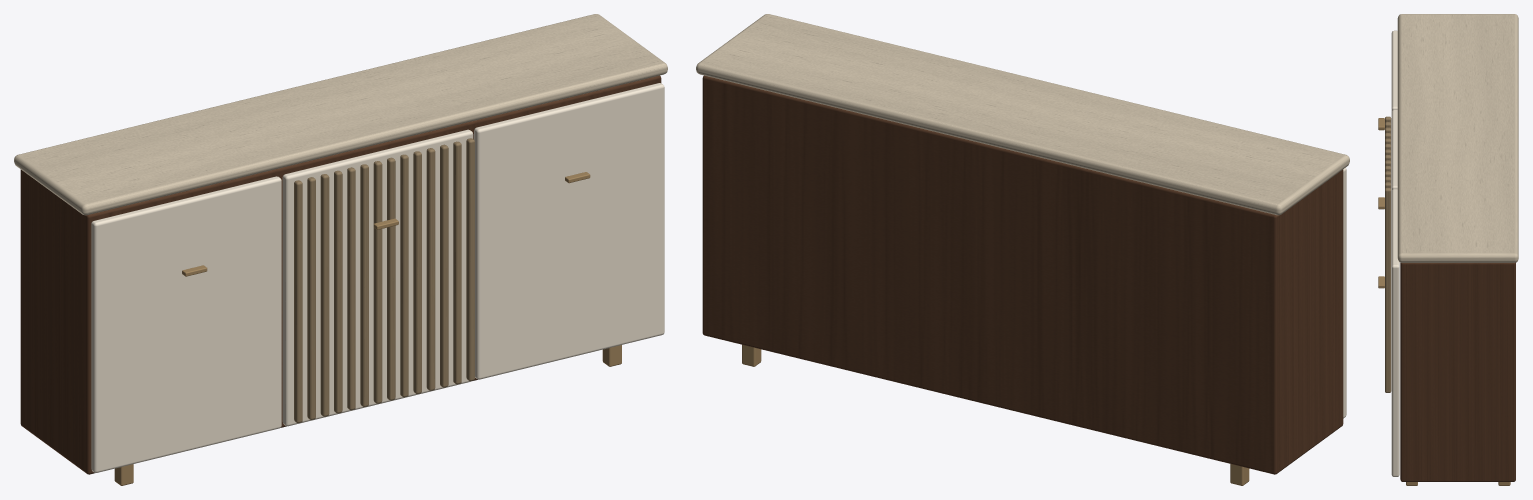
File: sideboard.glb
3 views of the same model, side by side, from view 1: azimuth 30°, elevation 25°; view 2: azimuth 150°, elevation 25°; view 3: azimuth 270°, elevation 25° (orthographic). The views are drawn at different scales.
Parts seen in each view (by area): view 1: 象牙白哑光烤漆 (×3), 米色洞石, 浅烟熏白橡木 (×14), 浅胡桃木; view 2: 浅胡桃木, 米色洞石, 象牙白哑光烤漆; view 3: 米色洞石, 浅胡桃木, 象牙白哑光烤漆 (×3), 浅烟熏白橡木.
Part boxes in pixels (left/top/right/bottom): 象牙白哑光烤漆 (×3): left=91, top=83, right=664, bottom=472; 米色洞石: left=14, top=14, right=667, bottom=215; 浅烟熏白橡木 (×14): left=294, top=138, right=474, bottom=422; 浅胡桃木: left=20, top=75, right=661, bottom=474; 浅胡桃木: left=702, top=75, right=1343, bottom=474; 米色洞石: left=696, top=14, right=1349, bottom=215; 象牙白哑光烤漆: left=1343, top=167, right=1346, bottom=418; 米色洞石: left=1397, top=14, right=1518, bottom=262; 浅胡桃木: left=1400, top=262, right=1515, bottom=481; 象牙白哑光烤漆 (×3): left=1391, top=30, right=1399, bottom=476; 浅烟熏白橡木: left=1385, top=187, right=1391, bottom=392.
Size of the model in its own units: 1.96 by 0.94 by 0.48.
Materials: 5 (3 with a texture image).
